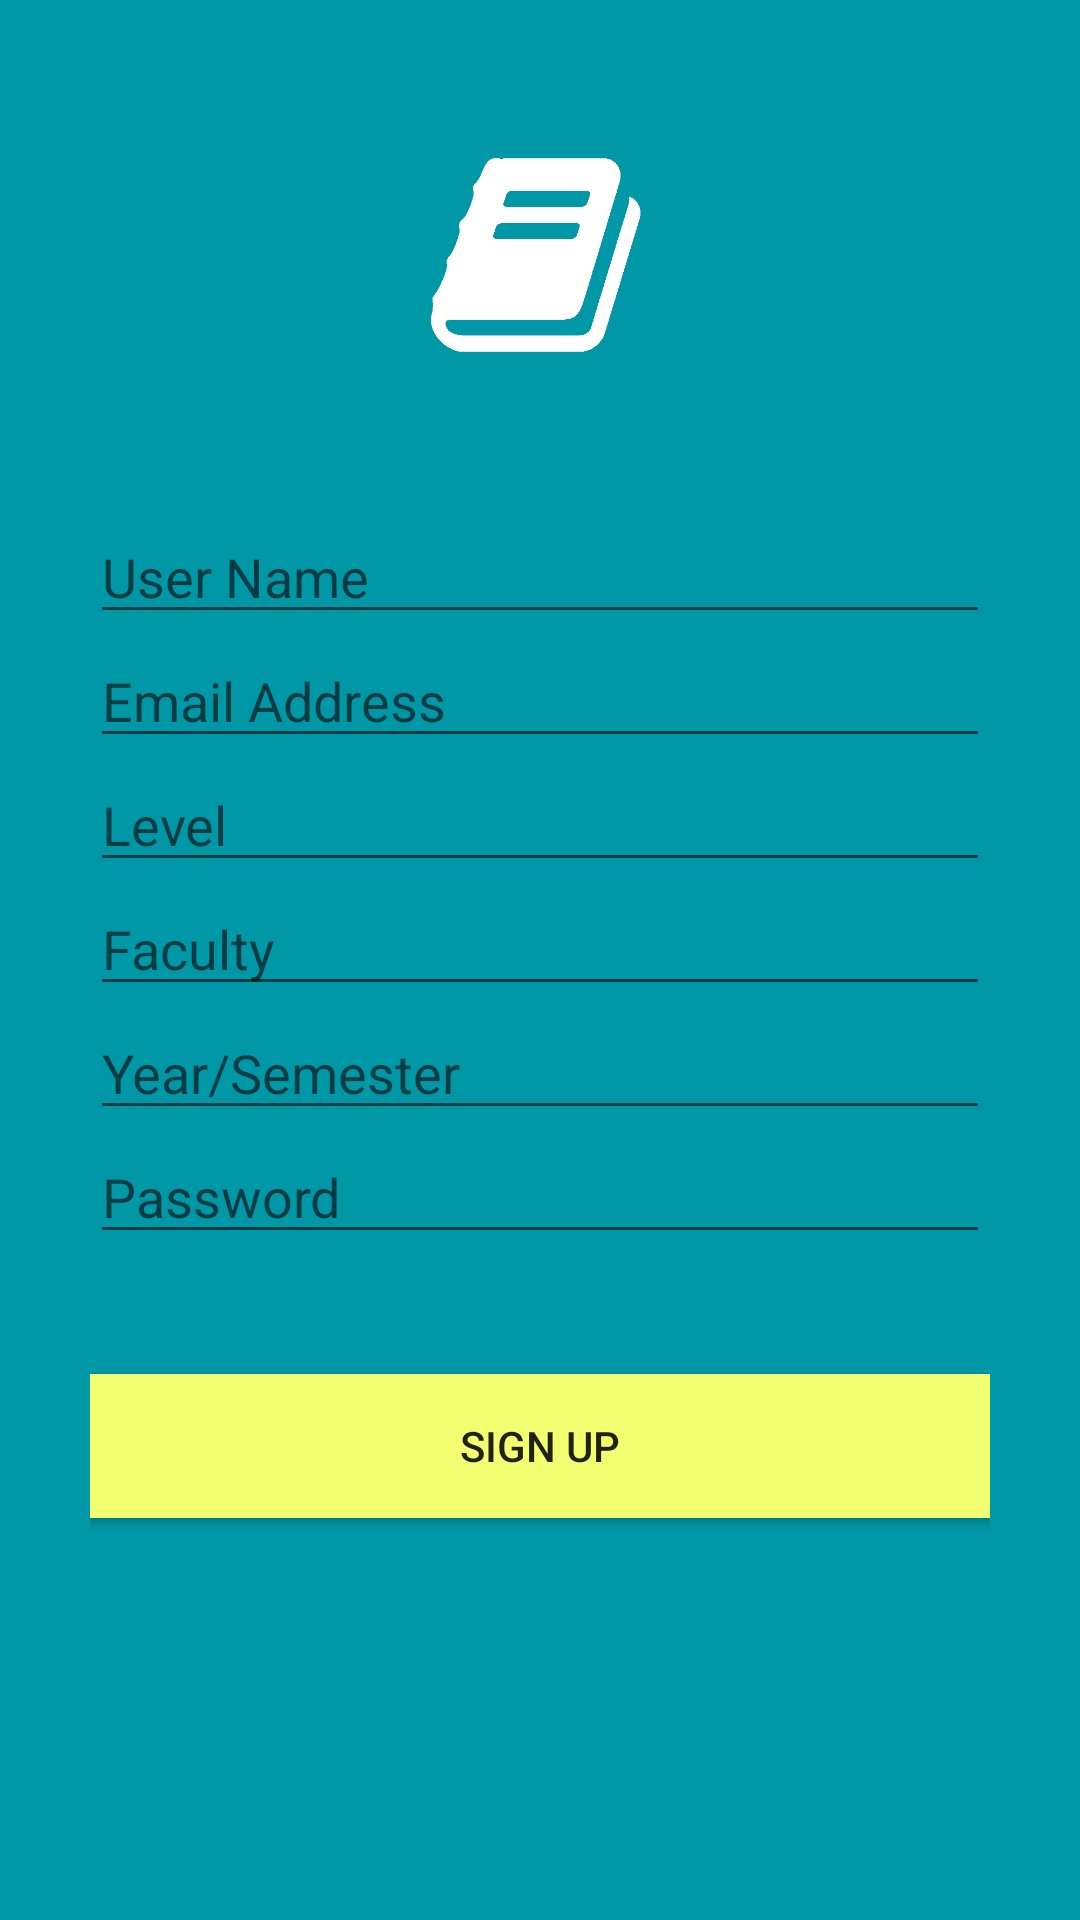

Icons on this 1080px×1920px Android screen, each with its box as box=[x1, y1, x2, y2]:
bookwhite: box=[431, 158, 641, 352]
